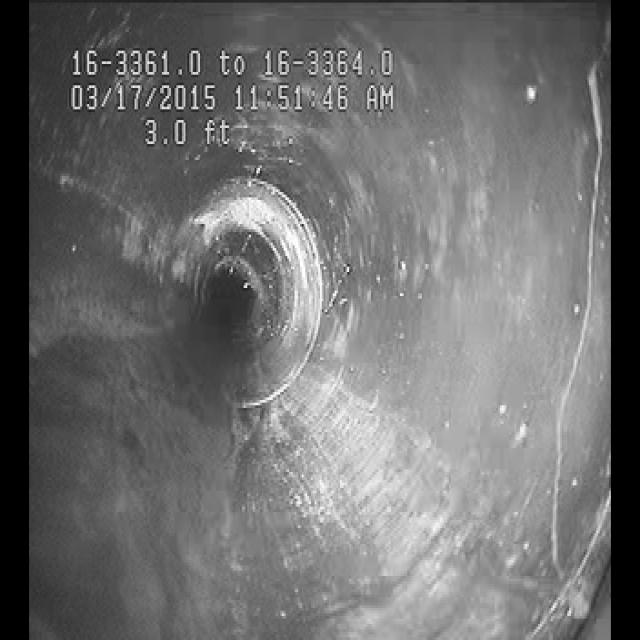Crack: (530, 85, 610, 557)
